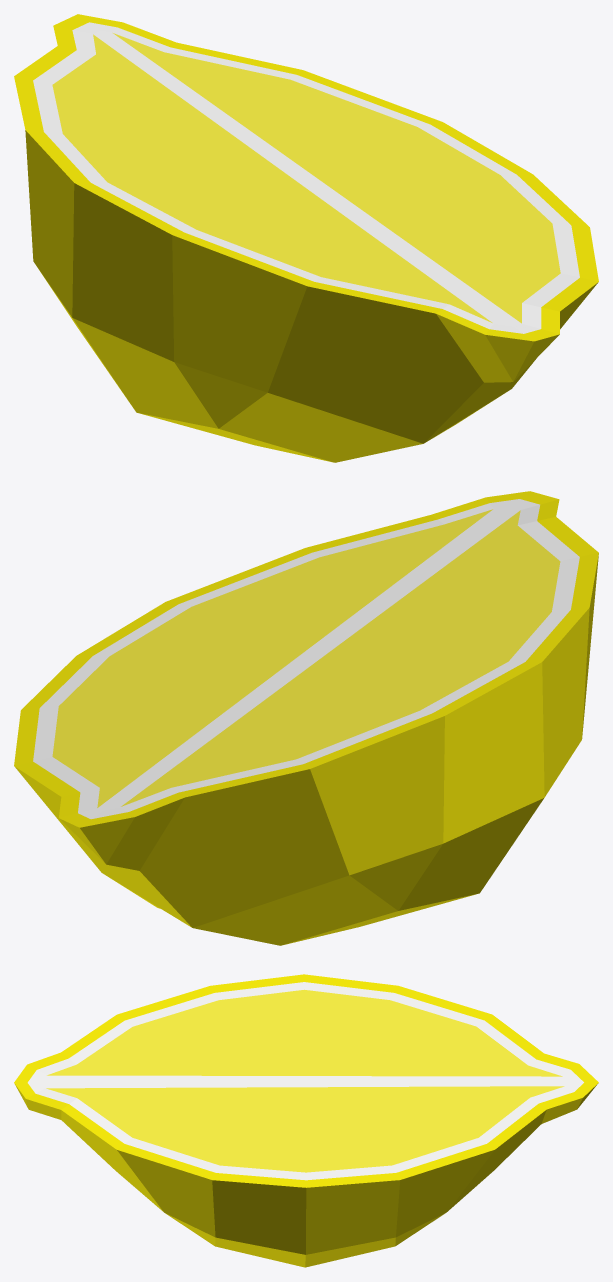
Rendered from lemom-half.fbx.
3 renders of one model, top to bottom at view 1: azimuth 30°, elevation 25°; view 2: azimuth 150°, elevation 25°; view 3: azimuth 270°, elevation 25°, orthographic. The views are drawn at different scales.
Visible parts, largest first — view 1: Cube.007; view 2: Cube.007; view 3: Cube.007.
Boxes of the visible parts, box(x1,y1,x2,y2) form: Cube.007: box(14, 14, 598, 462); Cube.007: box(14, 491, 598, 945); Cube.007: box(14, 974, 598, 1267).
Size of the model in its own units: 88 by 55.74 by 149.
